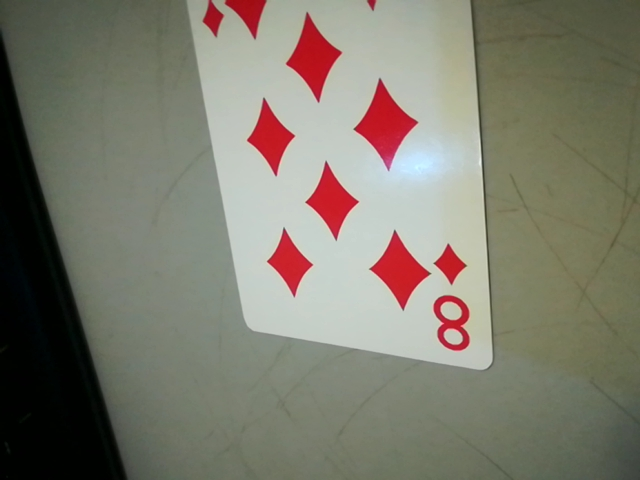fk 8: (424, 237, 485, 364)
